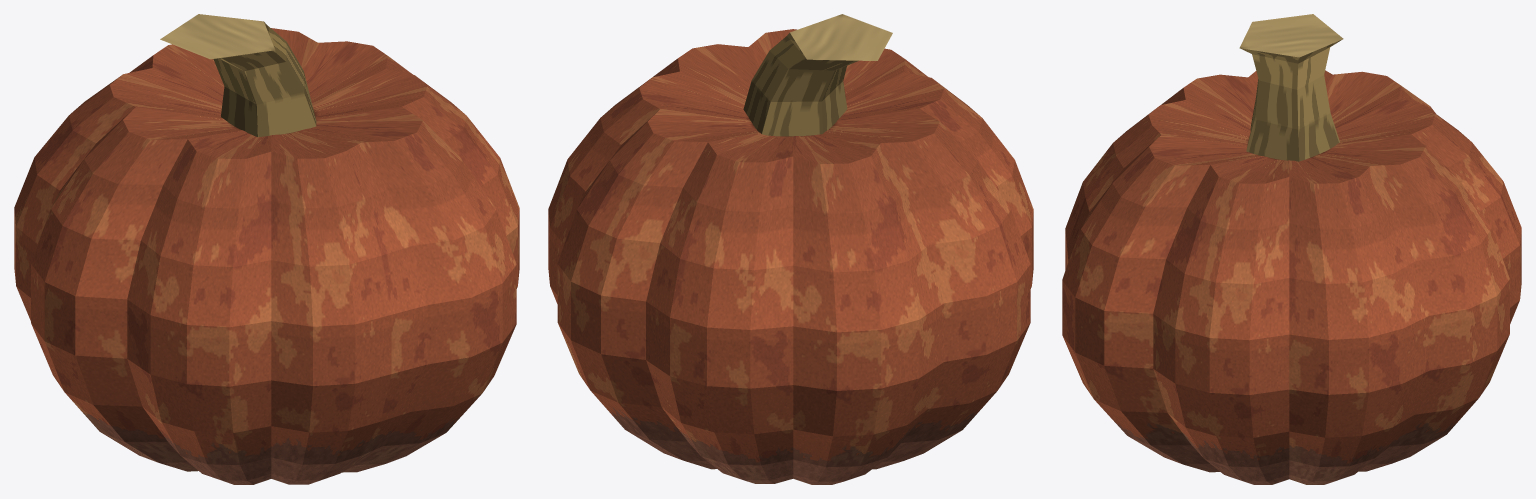
File: SM_Pumpkin_C.fbx
The picture shows the model from 3 angles, left to right: view 1: azimuth 30°, elevation 25°; view 2: azimuth 150°, elevation 25°; view 3: azimuth 270°, elevation 25°; orthographic projection. The views are drawn at different scales.
Visible parts, largest first — view 1: SM_Pumpkin_C; view 2: SM_Pumpkin_C; view 3: SM_Pumpkin_C.
Boxes of the visible parts, box(x1,y1,x2,y2) form: SM_Pumpkin_C: box(14, 14, 519, 484); SM_Pumpkin_C: box(548, 14, 1033, 484); SM_Pumpkin_C: box(1062, 14, 1521, 484).
Bounding box in the file's own units: 0.8876 × 0.8095 × 0.8737.
Materials: 1 (1 with a texture image).
